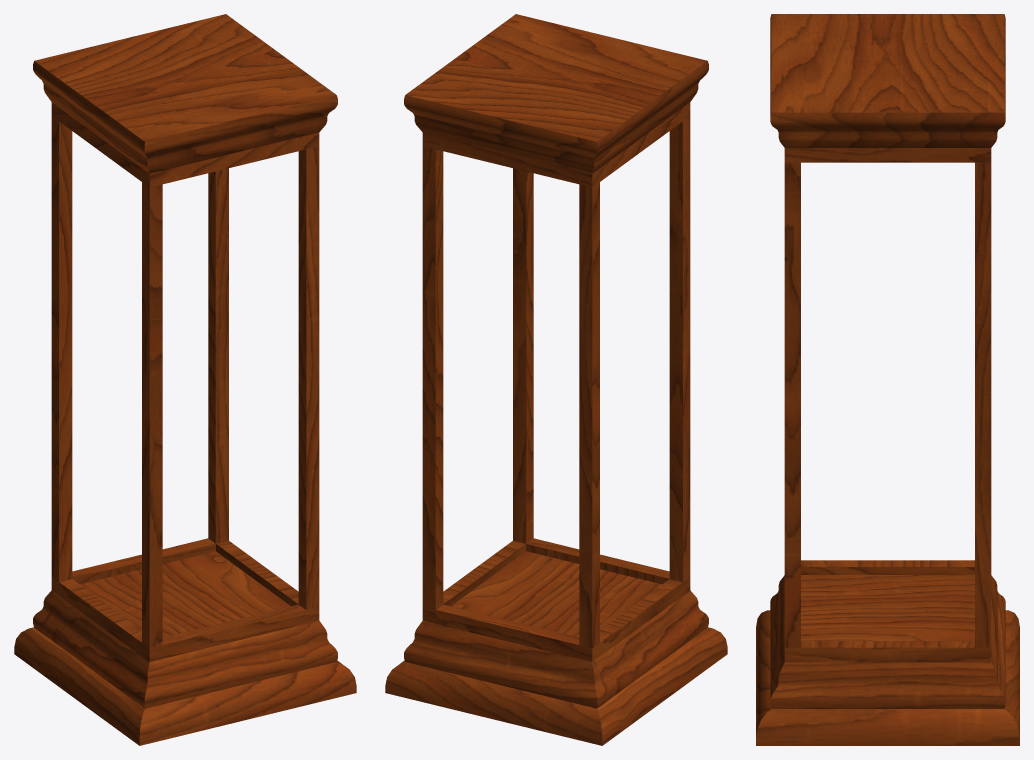
File: Vitrine2.fbx
3 views of the same model, side by side, from view 1: azimuth 30°, elevation 25°; view 2: azimuth 150°, elevation 25°; view 3: azimuth 270°, elevation 25° (orthographic). The views are drawn at different scales.
Visible parts, largest first — view 1: VerticalPlanks_LP, Thomb_LP, Thomb2_LP, HirizontalPlanks_LP, Pedestal_LP, Bottom_LP; view 2: VerticalPlanks_LP, Thomb_LP, Thomb2_LP, HirizontalPlanks_LP, Pedestal_LP, Bottom_LP; view 3: Thomb_LP, VerticalPlanks_LP, Thomb2_LP, Pedestal_LP, Bottom_LP, HirizontalPlanks_LP.
Part boxes in pixels (<box>): VerticalPlanks_LP: <box>51,116,319,648</box>; Thomb_LP: <box>33,14,337,173</box>; Thomb2_LP: <box>33,590,337,708</box>; HirizontalPlanks_LP: <box>51,102,319,661</box>; Pedestal_LP: <box>14,627,356,745</box>; Bottom_LP: <box>80,551,290,637</box>; VerticalPlanks_LP: <box>422,116,690,648</box>; Thomb_LP: <box>404,14,708,173</box>; Thomb2_LP: <box>404,590,708,708</box>; HirizontalPlanks_LP: <box>422,102,690,661</box>; Pedestal_LP: <box>385,627,727,745</box>; Bottom_LP: <box>451,551,661,637</box>; Thomb_LP: <box>770,14,1005,147</box>; VerticalPlanks_LP: <box>784,162,991,647</box>; Thomb2_LP: <box>770,575,1005,708</box>; Pedestal_LP: <box>756,610,1019,745</box>; Bottom_LP: <box>801,575,974,640</box>; HirizontalPlanks_LP: <box>784,148,991,662</box>.
Bounding box in the file's own units: 95.34 × 250 × 95.34.
Materials: 1 (1 with a texture image).
